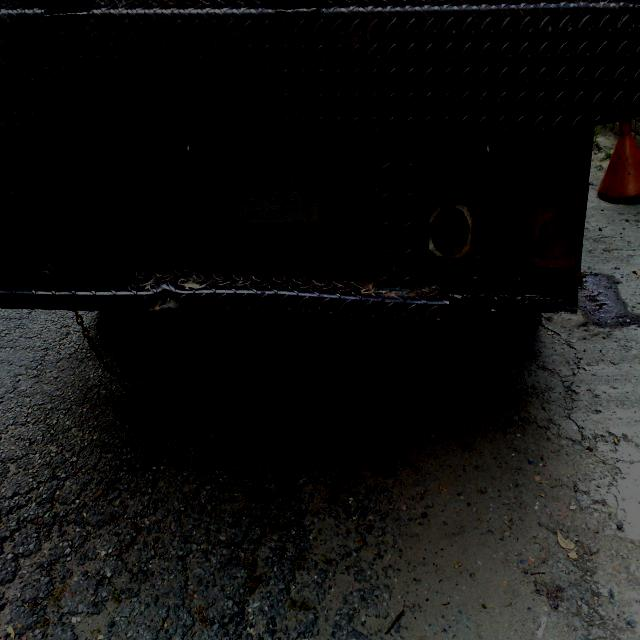placa: (194, 146, 327, 231)
